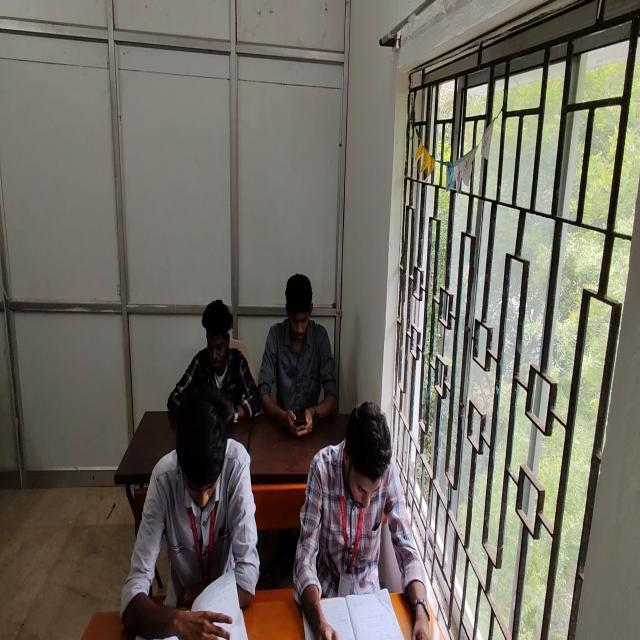reading: (119, 388, 269, 640), (291, 405, 439, 640)
using_mobile: (173, 284, 268, 458), (260, 254, 340, 446)
